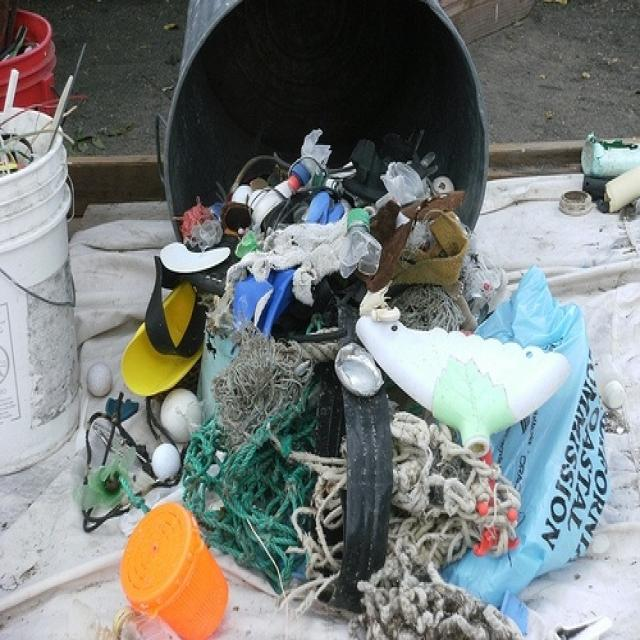Plastics: (350, 304, 582, 458), (152, 371, 208, 493), (331, 198, 388, 292), (80, 355, 121, 411)
